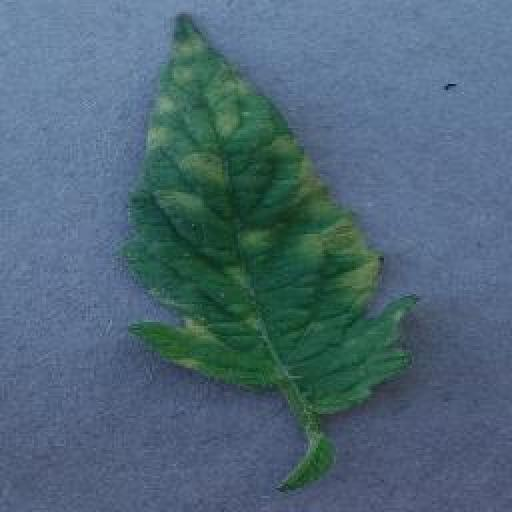disease_tomato: (118, 9, 419, 416)
